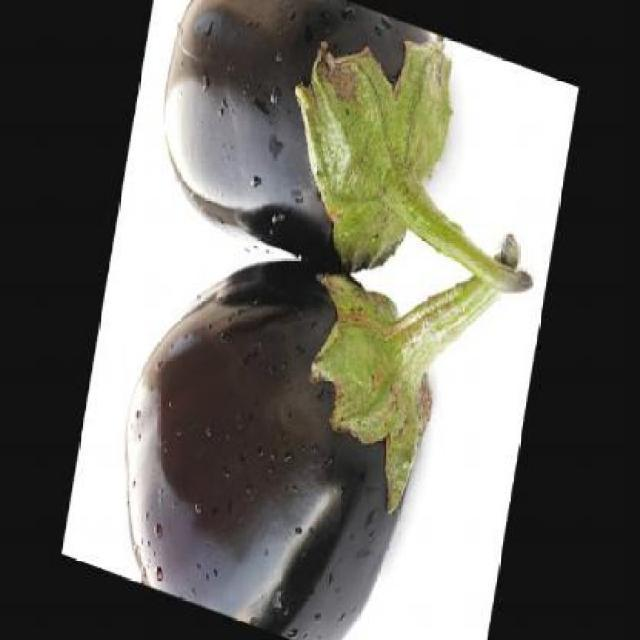eggplant: (101, 220, 528, 640), (142, 1, 546, 298)
